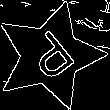P_SE: (18, 24, 81, 87)
